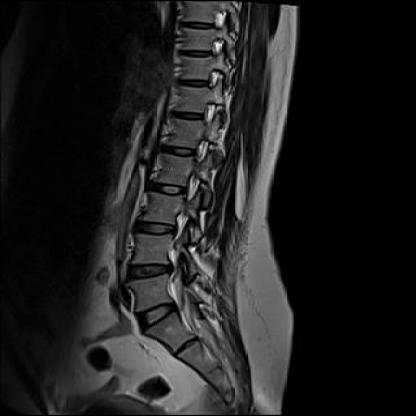Disc Bulgerotation: (135, 302, 179, 325), (131, 262, 172, 281), (138, 218, 178, 237)
